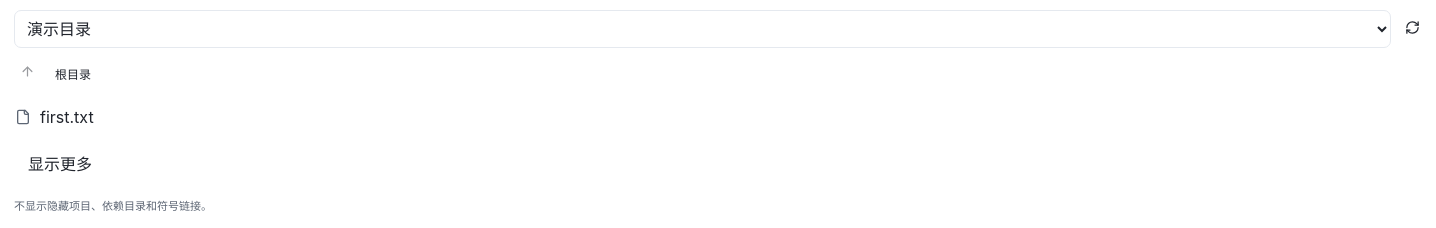
load more uses snapshot and preserves entries
Click the button "显示更多" at (60, 163), box [14,144,106,182]
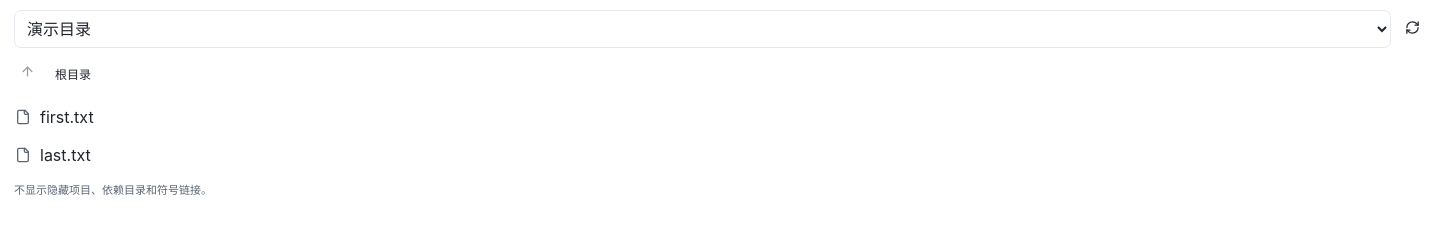
Expected: the text "first.txt" is shown, [40,107,94,127]
Result: the text "last.txt" is shown at [40,145,91,165]
